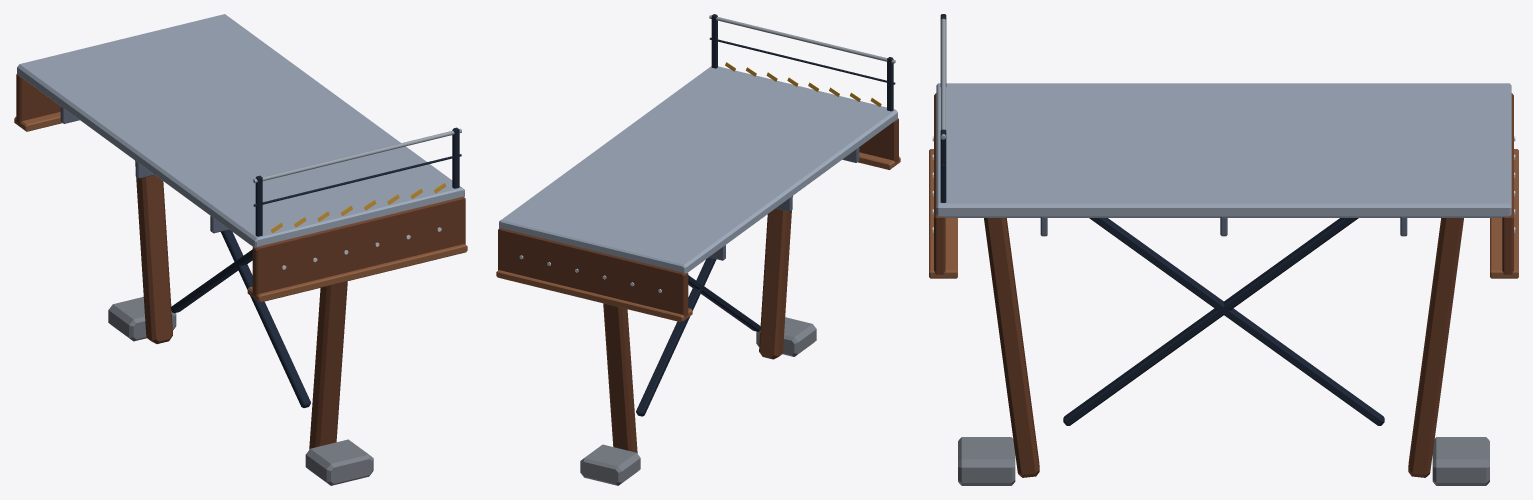
Rendered from switchyard_middeck.glb.
3 views of the same model, side by side, from view 1: azimuth 30°, elevation 25°; view 2: azimuth 150°, elevation 25°; view 3: azimuth 270°, elevation 25° (orthographic). The views are drawn at different scales.
Visible parts, largest first — view 1: mid_slab, mid_girder1, mid_leg-1, mid_leg1, mid_foot1, mid_flange1, mid_brace_b, mid_foot-1, mid_girder-1, mid_rail_top, mid_brace_a, mid_rail_mid (+2 smaller); view 2: mid_slab, mid_girder-1, mid_leg1, mid_leg-1, mid_foot-1, mid_flange-1, mid_brace_a, mid_foot1, mid_girder1, mid_rail_top, mid_brace_b, mid_rail_mid; view 3: mid_slab, mid_leg-1, mid_leg1, mid_brace_b, mid_brace_a, mid_foot-1, mid_foot1, mid_flange-1, mid_flange1, mid_girder-1, mid_girder1.
Boxes of the visible parts, <box> form: mid_slab: <box>17,14,464,248</box>; mid_girder1: <box>252,196,465,296</box>; mid_leg-1: <box>135,160,172,343</box>; mid_leg1: <box>309,281,347,449</box>; mid_foot1: <box>305,439,373,485</box>; mid_flange1: <box>247,244,467,302</box>; mid_brace_b: <box>221,229,310,407</box>; mid_foot-1: <box>108,297,176,341</box>; mid_girder-1: <box>16,74,60,123</box>; mid_rail_top: <box>253,128,461,183</box>; mid_brace_a: <box>171,249,252,313</box>; mid_rail_mid: <box>253,154,461,206</box>; mid_slab: <box>499,66,897,273</box>; mid_girder-1: <box>498,228,688,317</box>; mid_leg1: <box>759,196,792,359</box>; mid_leg-1: <box>603,303,637,453</box>; mid_foot-1: <box>580,444,640,485</box>; mid_flange-1: <box>496,270,692,322</box>; mid_brace_a: <box>636,257,716,416</box>; mid_foot1: <box>756,317,816,356</box>; mid_girder1: <box>859,118,898,162</box>; mid_rail_top: <box>709,15,895,63</box>; mid_brace_b: <box>688,275,760,331</box>; mid_rail_mid: <box>709,37,895,84</box>; mid_slab: <box>936,83,1511,217</box>; mid_leg-1: <box>1408,218,1463,477</box>; mid_leg1: <box>984,218,1039,477</box>; mid_brace_b: <box>1063,218,1358,425</box>; mid_brace_a: <box>1089,218,1384,425</box>; mid_foot-1: <box>1432,437,1489,485</box>; mid_foot1: <box>958,437,1015,485</box>; mid_flange-1: <box>1490,149,1518,278</box>; mid_flange1: <box>929,149,957,278</box>; mid_girder-1: <box>1502,93,1513,274</box>; mid_girder1: <box>934,93,945,274</box>.
Size of the model in its own units: 4.06 by 6.17 by 8.2.
